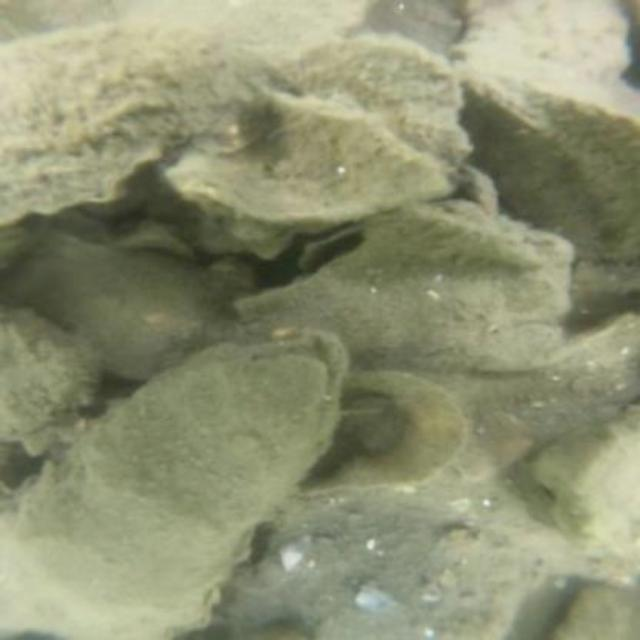Oyster-Closed: (0, 332, 351, 638), (237, 212, 568, 377), (5, 20, 269, 212), (165, 97, 493, 248), (220, 505, 547, 638), (460, 59, 638, 296), (268, 32, 478, 178), (18, 238, 216, 377), (289, 368, 468, 495), (451, 0, 638, 103), (0, 298, 99, 447), (372, 206, 544, 270), (548, 587, 630, 638)
